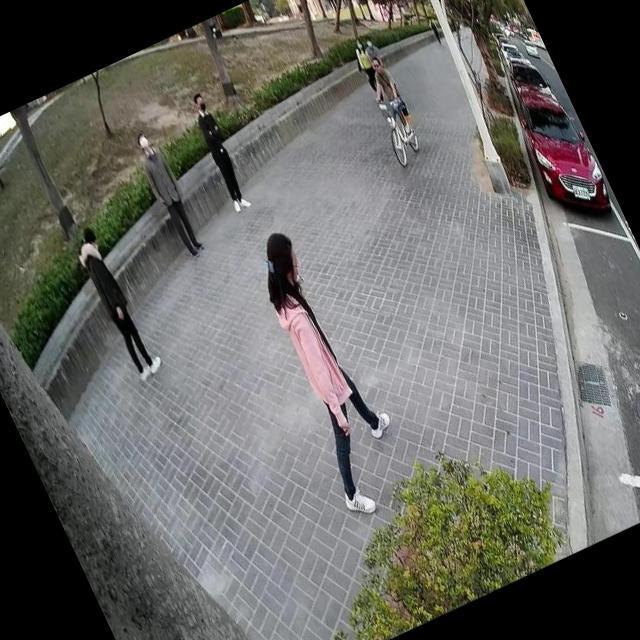person: (223, 214, 428, 526), (60, 214, 169, 388), (125, 124, 212, 266), (178, 86, 258, 216), (355, 50, 420, 146), (342, 34, 388, 104), (357, 31, 388, 72)
